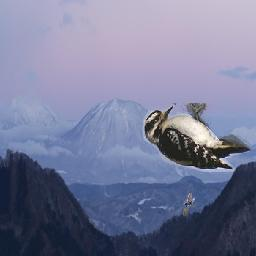Swallow: (183, 194, 195, 217)
Woodpecker: (137, 104, 251, 175)
